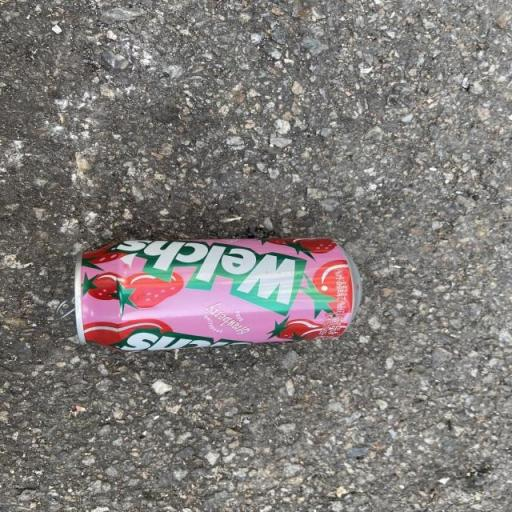metal: (23, 205, 403, 401)
